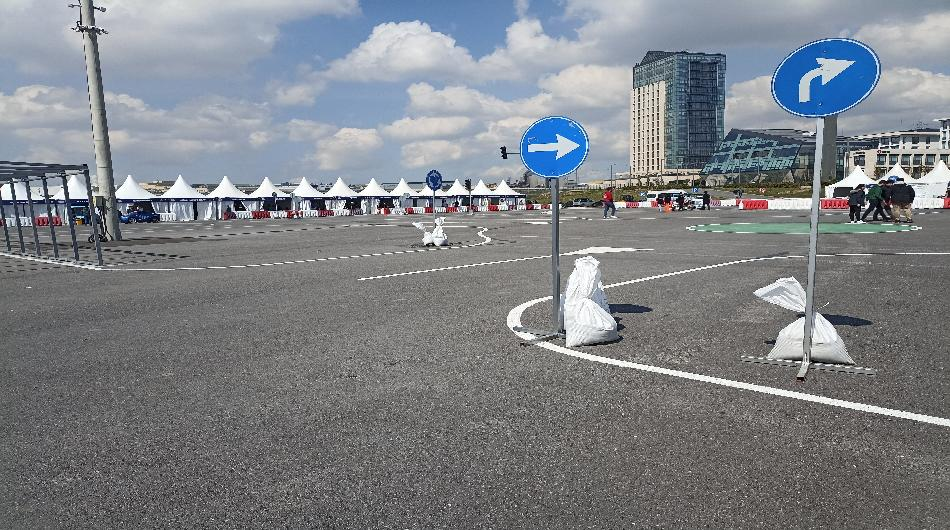saga_mecburi_1: (522, 117, 586, 180)
saga_mecburi_2: (770, 38, 887, 120)
